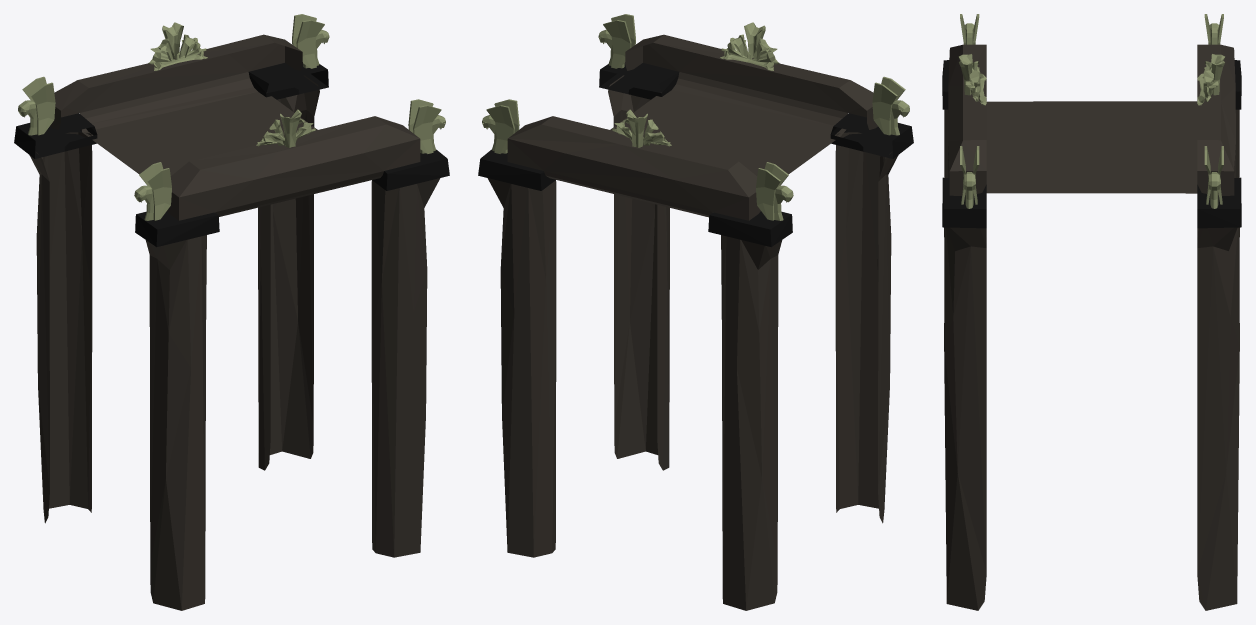
The model's file is Door.obj.
3 renders of one model, left to right at view 1: azimuth 30°, elevation 25°; view 2: azimuth 150°, elevation 25°; view 3: azimuth 270°, elevation 25°, orthographic. The views are drawn at different scales.
Parts seen in each view (by area): view 1: Cube.001_Cube.007; view 2: Cube.001_Cube.007; view 3: Cube.001_Cube.007.
Boxes of the visible parts, <box> form: Cube.001_Cube.007: <box>14,14,449,610</box>; Cube.001_Cube.007: <box>478,14,913,610</box>; Cube.001_Cube.007: <box>942,14,1241,610</box>.
Size of the model in its own units: 1.74 by 2.49 by 1.39.
